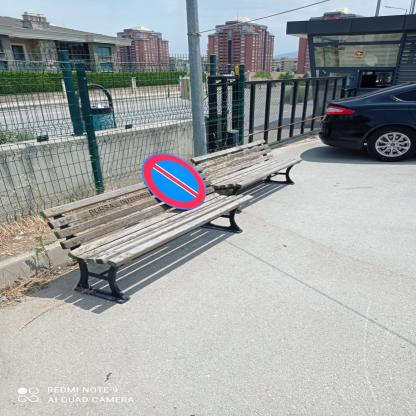No Waiting: (143, 154, 207, 211)
